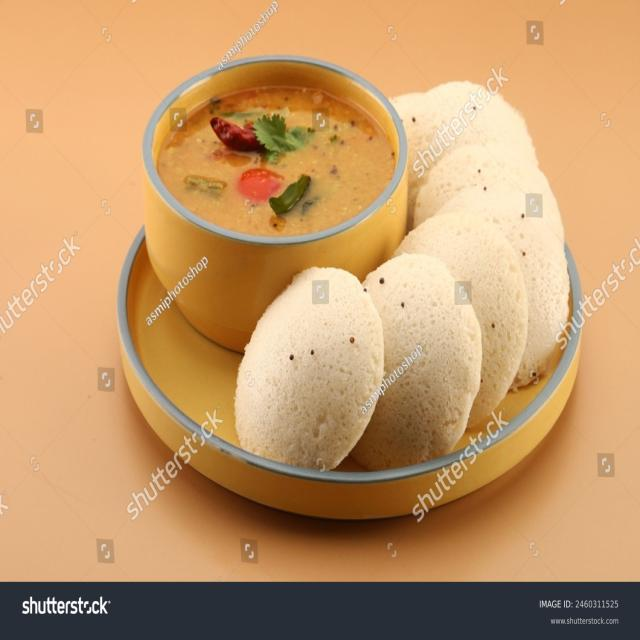IDLI: (388, 82, 571, 432), (233, 261, 380, 471), (351, 253, 483, 461)
